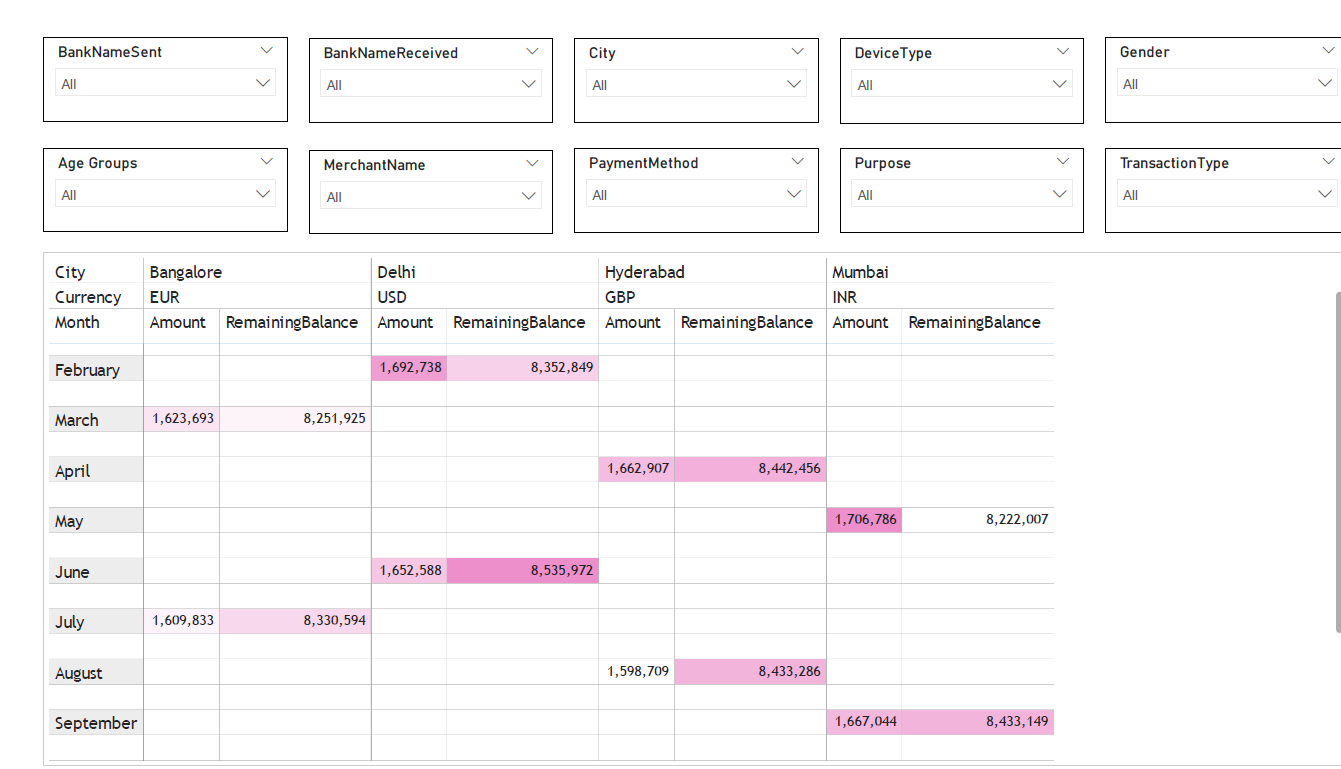

The page's visual inventory and layout, read from the dashboard file:
{"tool":"powerbi","page":{"name":"Page 2","canvas":[1280,720],"ordinal":1},"visuals":[{"type":"slicer","fields":{"Values":["UPI Transaction.BankNameSent"]},"box":[20,20,232,80],"z":0},{"type":"slicer","fields":{"Values":["UPI Transaction.BankNameReceived"]},"box":[272,20.6,232,80],"z":1000},{"type":"slicer","fields":{"Values":["UPI Transaction.City"]},"box":[524,20.8,232,80.7],"z":2000},{"type":"slicer","fields":{"Values":["UPI Transaction.DeviceType"]},"box":[776,20.6,232,81],"z":3000},{"type":"slicer","fields":{"Values":["UPI Transaction.Gender"]},"box":[1028,20,232,81],"z":4000},{"type":"slicer","fields":{"Values":["UPI Transaction.Age Groups"]},"box":[20,125.5,232,80],"z":5000},{"type":"slicer","fields":{"Values":["UPI Transaction.MerchantName"]},"box":[272,126.7,232.3,80],"z":6000},{"type":"slicer","fields":{"Values":["UPI Transaction.PaymentMethod"]},"box":[524,125.5,232.3,80.7],"z":7000},{"type":"slicer","fields":{"Values":["UPI Transaction.Purpose"]},"box":[776,125.5,232.3,80.7],"z":8000},{"type":"slicer","fields":{"Values":["UPI Transaction.TransactionType"]},"box":[1028,125.5,232,80.7],"z":9000},{"type":"pivotTable","fields":{"Values":["Sum(UPI Transaction.Amount)","Sum(UPI Transaction.RemainingBalance)"],"Rows":["UPI Transaction.TransactionDate.Variation.Date Hierarchy.Month"],"Columns":["UPI Transaction.City","UPI Transaction.Currency"]},"box":[19.6,223.8,1241.2,487.9],"z":10000}]}

Visuals, with their boxes in screenshot pixels (x1, y1, x2, y2), scaled from the page's 1280x720 canvas onto the 1341x769 screenshot:
slicer - UPI Transaction.BankNameSent: (21, 21, 264, 107)
slicer - UPI Transaction.BankNameReceived: (285, 22, 528, 107)
slicer - UPI Transaction.City: (549, 22, 792, 108)
slicer - UPI Transaction.DeviceType: (813, 22, 1056, 109)
slicer - UPI Transaction.Gender: (1077, 21, 1320, 108)
slicer - UPI Transaction.Age Groups: (21, 134, 264, 219)
slicer - UPI Transaction.MerchantName: (285, 135, 528, 221)
slicer - UPI Transaction.PaymentMethod: (549, 134, 792, 220)
slicer - UPI Transaction.Purpose: (813, 134, 1056, 220)
slicer - UPI Transaction.TransactionType: (1077, 134, 1320, 220)
pivotTable - Sum(UPI Transaction.Amount) x Sum(UPI Transaction.RemainingBalance): (21, 239, 1321, 760)
